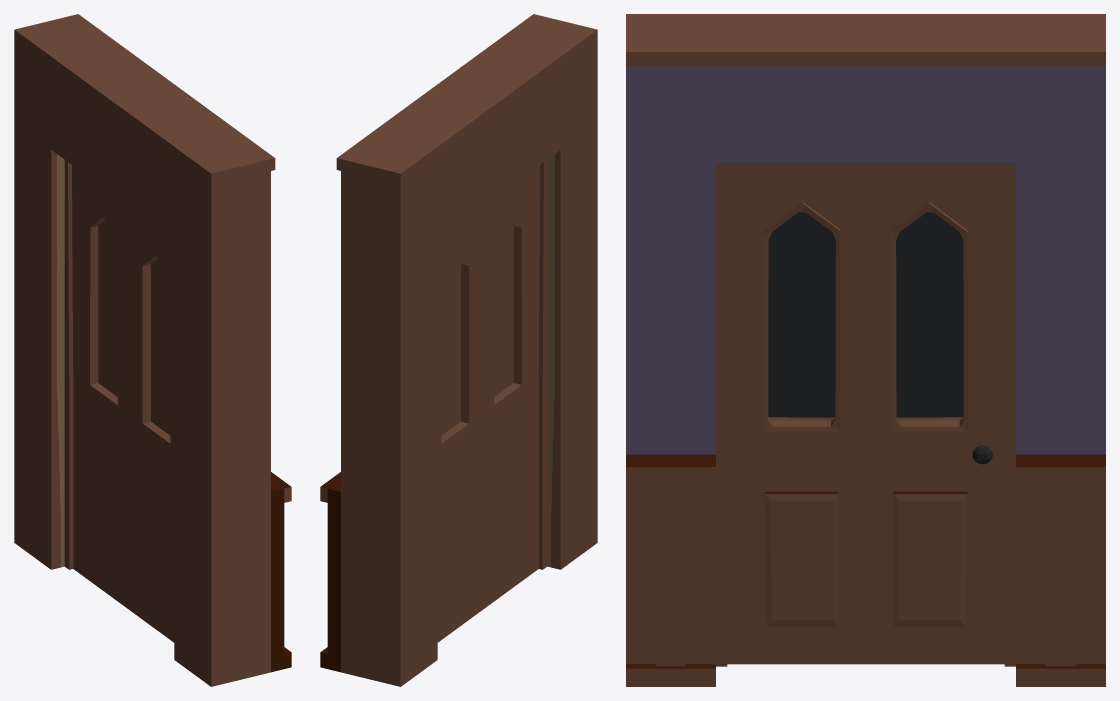
The model's file is Pentacles_Wall_Door.fbx.
3 views of the same model, side by side, from view 1: azimuth 30°, elevation 25°; view 2: azimuth 150°, elevation 25°; view 3: azimuth 270°, elevation 25° (orthographic). The views are drawn at different scales.
Parts seen in each view (by area): view 1: Wall Basic Door; view 2: Wall Basic Door; view 3: Wall Basic Door.
Part boxes in pixels (left/top/right/bottom): Wall Basic Door: left=14, top=14, right=291, bottom=686; Wall Basic Door: left=320, top=14, right=597, bottom=686; Wall Basic Door: left=626, top=14, right=1105, bottom=686.
Bounding box in the file's own units: 98.17 × 598 × 416.
